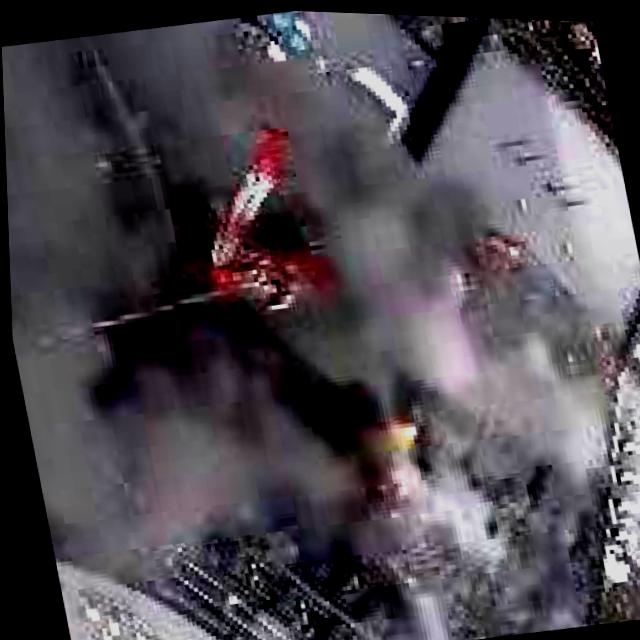smoke: (0, 0, 614, 615)
